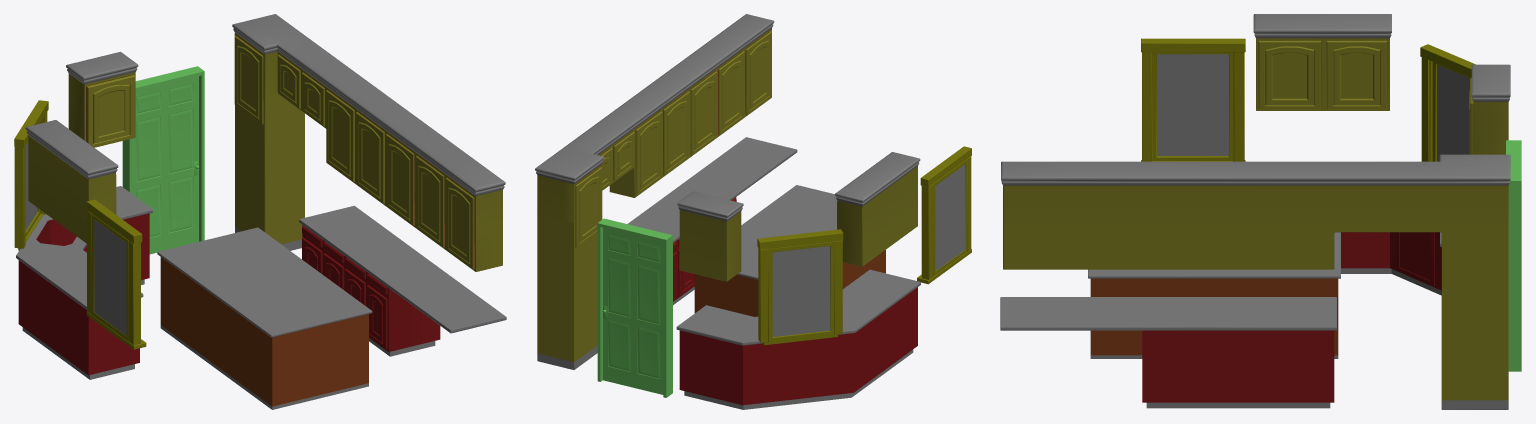
File: FloorPlan6.fbx
3 views of the same model, side by side, from view 1: azimuth 30°, elevation 25°; view 2: azimuth 150°, elevation 25°; view 3: azimuth 270°, elevation 25° (orthographic). The views are drawn at different scales.
Parts seen in each view (by area): view 1: StandardUpperCabinetHeightWidth, StandardIslandHeight1, StandardCounterHeightWidth, StandardDoor1, WindowGlass, Cabinet (7), WindowTreatment1 (2), StandardDoorFrame1, Cabinet (10), Cabinet (12), Cabinet (13), Cabinet (16) (+10 smaller); view 2: StandardUpperCabinetHeightWidth, StandardCounterHeightWidth, StandardDoor1, WindowGlass, StandardIslandHeight1, StandardDoorFrame1, WindowTreatment1, WindowTreatment1 (2), Cabinet (12), Cabinet (13), Cabinet (16), Cabinet (10) (+5 smaller); view 3: StandardUpperCabinetHeightWidth, StandardCounterHeightWidth, WindowGlass, StandardIslandHeight1, Cabinet (9), Cabinet (8), WindowTreatment1 (2), StandardDoorFrame1, WindowTreatment1, StandardWindow1 (2), StandardWindow1, WindowTreatment2 (2).
Part boxes in pixels (left/top/right/bottom): StandardUpperCabinetHeightWidth: left=25, top=14, right=505, bottom=271; StandardIslandHeight1: left=157, top=227, right=372, bottom=409; StandardCounterHeightWidth: left=16, top=186, right=506, bottom=379; StandardDoor1: left=133, top=76, right=198, bottom=254; WindowGlass: left=25, top=142, right=126, bottom=335; Cabinet (7): left=86, top=75, right=134, bottom=147; WindowTreatment1 (2): left=86, top=199, right=146, bottom=349; StandardDoorFrame1: left=122, top=66, right=204, bottom=241; Cabinet (10): left=326, top=90, right=354, bottom=181; Cabinet (12): left=386, top=134, right=414, bottom=225; Cabinet (13): left=356, top=112, right=384, bottom=203; Cabinet (16): left=416, top=156, right=444, bottom=247; StandardUpperCabinetHeightWidth: left=535, top=14, right=920, bottom=369; StandardCounterHeightWidth: left=627, top=137, right=920, bottom=409; StandardDoor1: left=603, top=227, right=663, bottom=394; WindowGlass: left=772, top=165, right=964, bottom=336; StandardIslandHeight1: left=694, top=185, right=885, bottom=316; StandardDoorFrame1: left=597, top=218, right=672, bottom=397; WindowTreatment1: left=757, top=229, right=843, bottom=342; WindowTreatment1 (2): left=917, top=146, right=971, bottom=284; Cabinet (12): left=690, top=71, right=716, bottom=155; Cabinet (13): left=663, top=91, right=689, bottom=175; Cabinet (16): left=718, top=51, right=744, bottom=135; Cabinet (10): left=636, top=111, right=662, bottom=195; StandardUpperCabinetHeightWidth: left=1001, top=14, right=1510, bottom=409; StandardCounterHeightWidth: left=1000, top=232, right=1441, bottom=408; WindowGlass: left=1157, top=54, right=1469, bottom=161; StandardIslandHeight1: left=1088, top=232, right=1340, bottom=358; Cabinet (9): left=1258, top=40, right=1321, bottom=109; Cabinet (8): left=1326, top=40, right=1387, bottom=109; WindowTreatment1 (2): left=1141, top=38, right=1245, bottom=161; StandardDoorFrame1: left=1506, top=140, right=1521, bottom=371; WindowTreatment1: left=1420, top=44, right=1475, bottom=161; StandardWindow1 (2): left=1152, top=52, right=1233, bottom=160; StandardWindow1: left=1432, top=62, right=1470, bottom=161; WindowTreatment2 (2): left=1151, top=52, right=1234, bottom=161.
Size of the model in its own units: 384 by 250 by 505.
